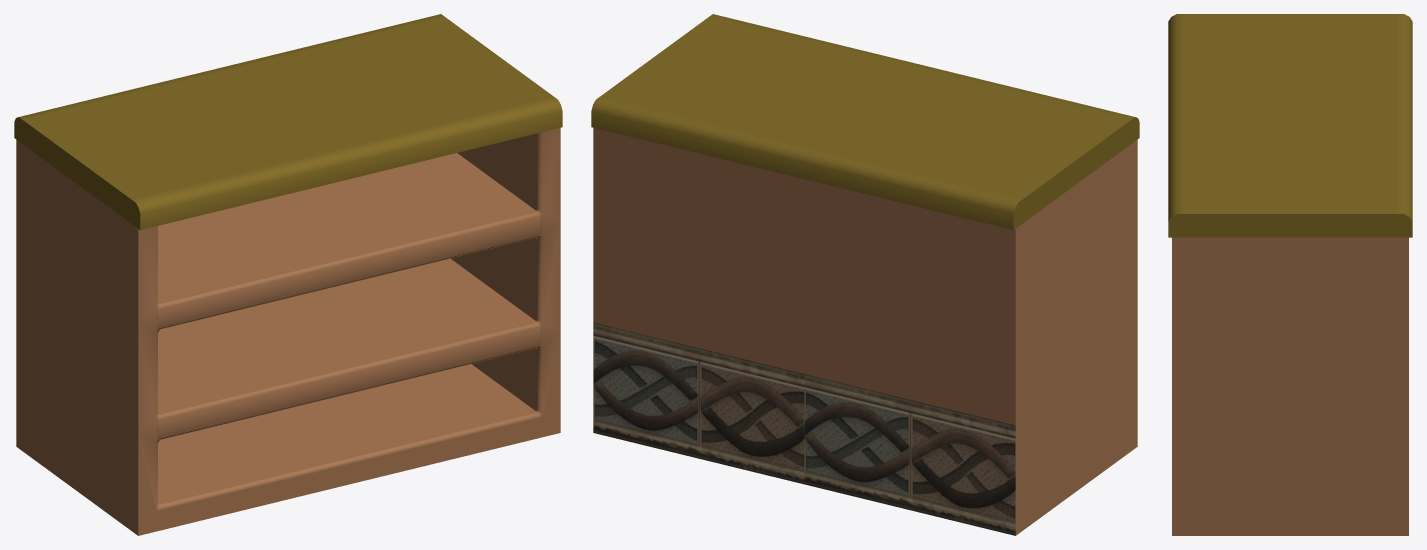
Rendered from DI_068_069_cabinet.glb.
3 views of the same model, side by side, from view 1: azimuth 30°, elevation 25°; view 2: azimuth 150°, elevation 25°; view 3: azimuth 270°, elevation 25° (orthographic). The views are drawn at different scales.
Parts seen in each view (by area): view 1: Cabinet; view 2: Cabinet; view 3: Cabinet.
Part boxes in pixels (box(x1,y1,x2,y2)): Cabinet: box(14, 14, 562, 535); Cabinet: box(591, 14, 1139, 535); Cabinet: box(1168, 14, 1412, 535).
Size of the model in its own units: 1.5 by 1.12 by 0.7743.
3 materials, 1 textured.
